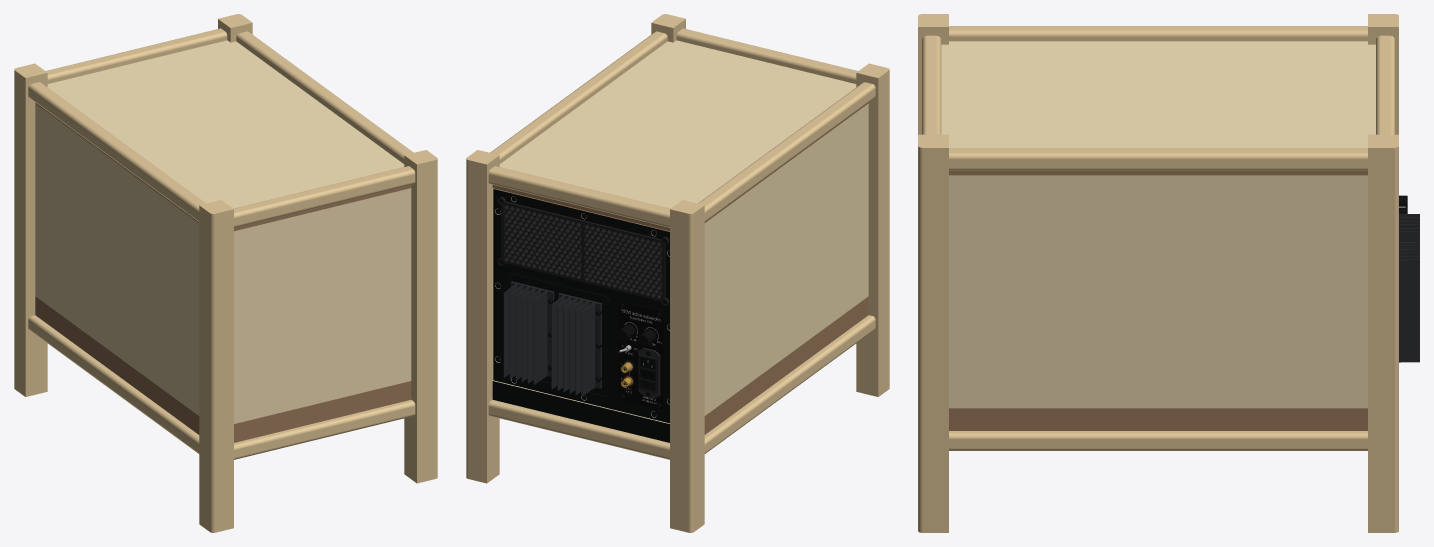
The model's file is Subwoofer cabinet.dae.
The picture shows the model from 3 angles, left to right: view 1: azimuth 30°, elevation 25°; view 2: azimuth 150°, elevation 25°; view 3: azimuth 270°, elevation 25°; orthographic projection. The views are drawn at different scales.
Parts seen in each view (by area): view 1: Panel_front, Panel_top (×2), Panel_side, Leg (×4), Bumper (×6), Baffle_inner, Baffle_outer; view 2: Panel_top (×2), Panel_side, Leg (×4), Bumper (×6), _557-140AB (×12), Panel_rear, Baffle_inner (×2), Subwoofer_upper_vent_segment_B, Subwoofer_upper_vent_segment_A, control_panel, Baffle_outer (×2), Thermal_spreader; view 3: Panel_side, Panel_top (×2), Bumper (×5), Leg (×4), Baffle_inner, Baffle_outer, _557-140AB.
Boxes of the visible parts, x1=… form: Panel_front: x1=234, y1=188, x2=411, y2=423; Panel_top (×2): x1=35, y1=40, x2=411, y2=231; Panel_side: x1=35, y1=103, x2=199, y2=415; Leg (×4): x1=14, y1=14, x2=437, y2=532; Bumper (×6): x1=28, y1=28, x2=415, y2=459; Baffle_inner: x1=35, y1=296, x2=411, y2=436; Baffle_outer: x1=35, y1=309, x2=411, y2=442; Panel_top (×2): x1=492, y1=40, x2=868, y2=231; Panel_side: x1=704, y1=103, x2=868, y2=415; Leg (×4): x1=466, y1=14, x2=889, y2=532; Bumper (×6): x1=488, y1=28, x2=875, y2=459; _557-140AB (×12): x1=503, y1=283, x2=594, y2=396; Panel_rear: x1=493, y1=189, x2=669, y2=423; Baffle_inner (×2): x1=492, y1=296, x2=868, y2=436; Subwoofer_upper_vent_segment_B: x1=582, y1=220, x2=669, y2=305; Subwoofer_upper_vent_segment_A: x1=497, y1=197, x2=583, y2=281; control_panel: x1=618, y1=301, x2=664, y2=409; Baffle_outer (×2): x1=492, y1=309, x2=868, y2=442; Thermal_spreader: x1=504, y1=272, x2=610, y2=396; Panel_side: x1=949, y1=175, x2=1367, y2=408; Panel_top (×2): x1=941, y1=41, x2=1375, y2=175; Bumper (×5): x1=922, y1=26, x2=1395, y2=450; Leg (×4): x1=918, y1=14, x2=1398, y2=532; Baffle_inner: x1=949, y1=408, x2=1367, y2=423; Baffle_outer: x1=949, y1=424, x2=1367, y2=430; _557-140AB: x1=1399, y1=259, x2=1419, y2=362.
Bounding box in the file's own units: 12.91 × 20.46 × 17.32.
